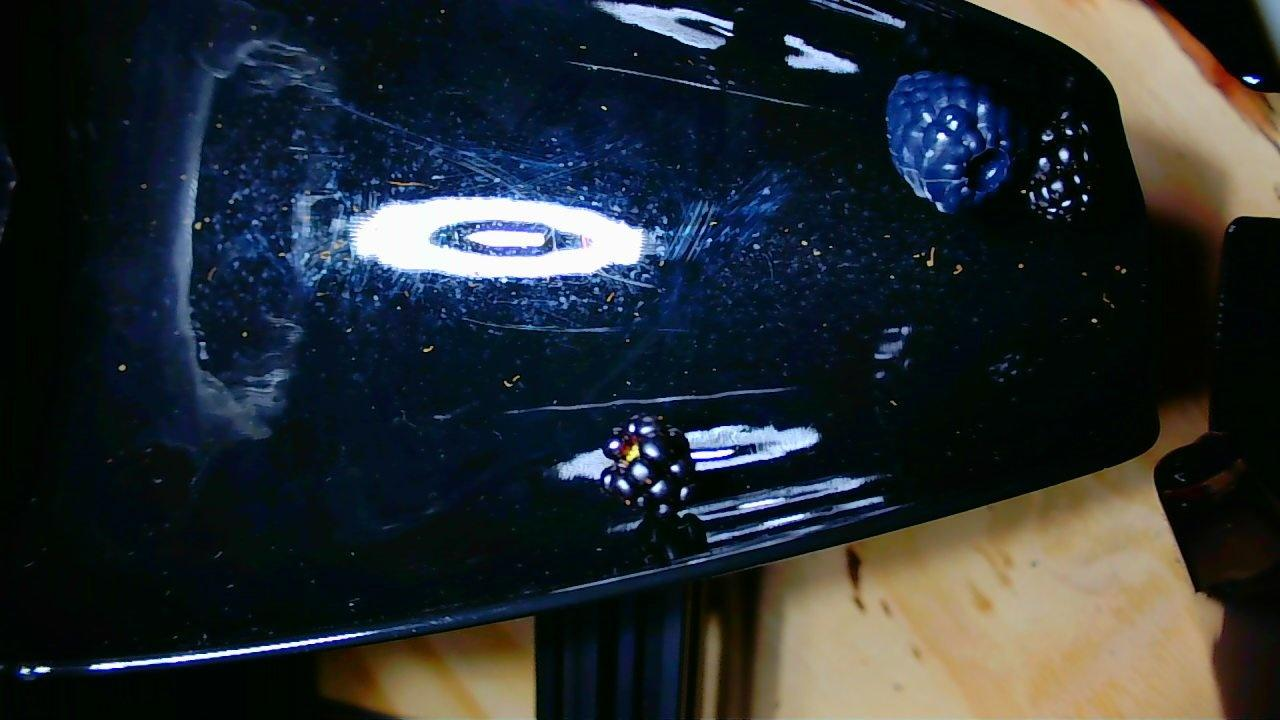berry: (887, 71, 1014, 213), (600, 415, 695, 516), (1025, 110, 1095, 220)
